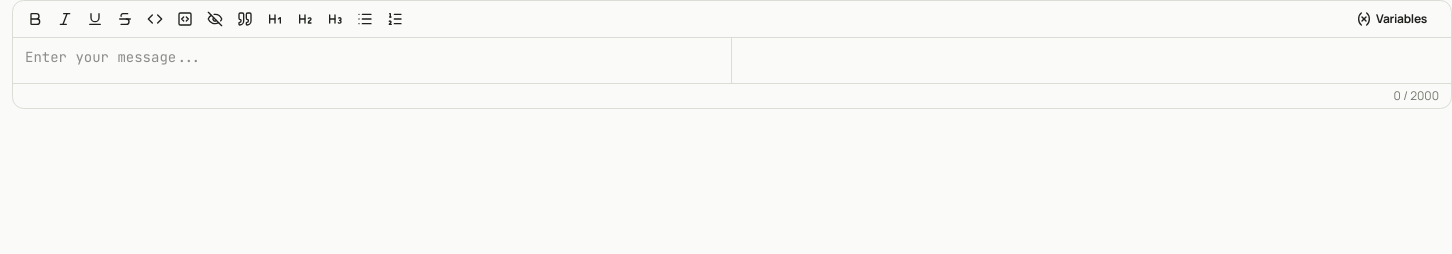
Test: DiscordMarkdownEditor › toggles and dismisses the variable dropdown
Click the button with aria-label "Insert variable" at point(1392, 19), box [1340,5,1443,33]
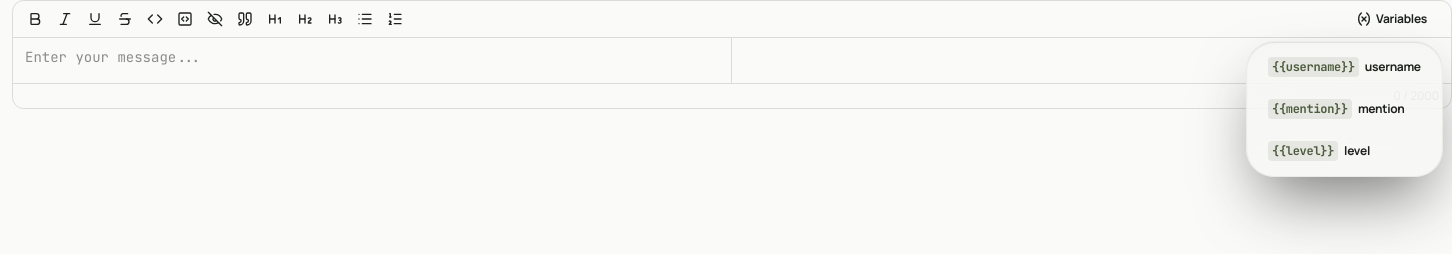
Result: the menu item "{{username}} username" is shown at [1268,57,1421,77]
Result: the menu item "{{mention}} mention" is shown at [1268,99,1404,119]
Result: the menu item "{{level}} level" is shown at [1268,141,1370,161]
Click the text box named "Markdown editor" at point(372, 57), box [13,38,731,77]
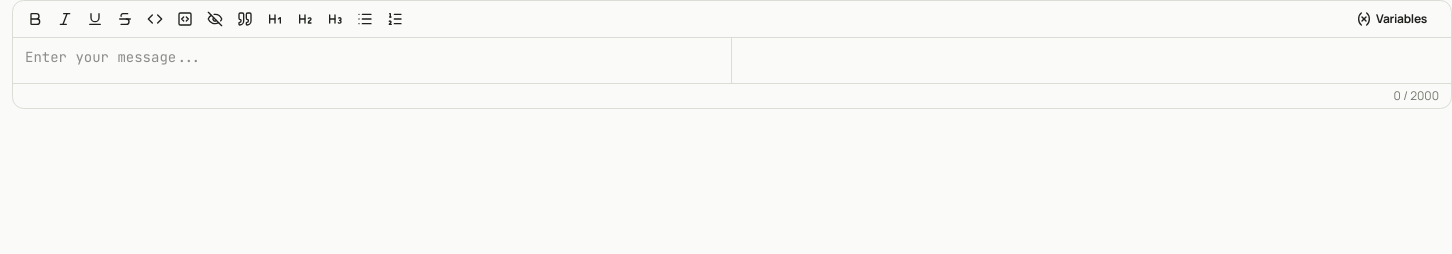
Result: the menu item "username" is gone
